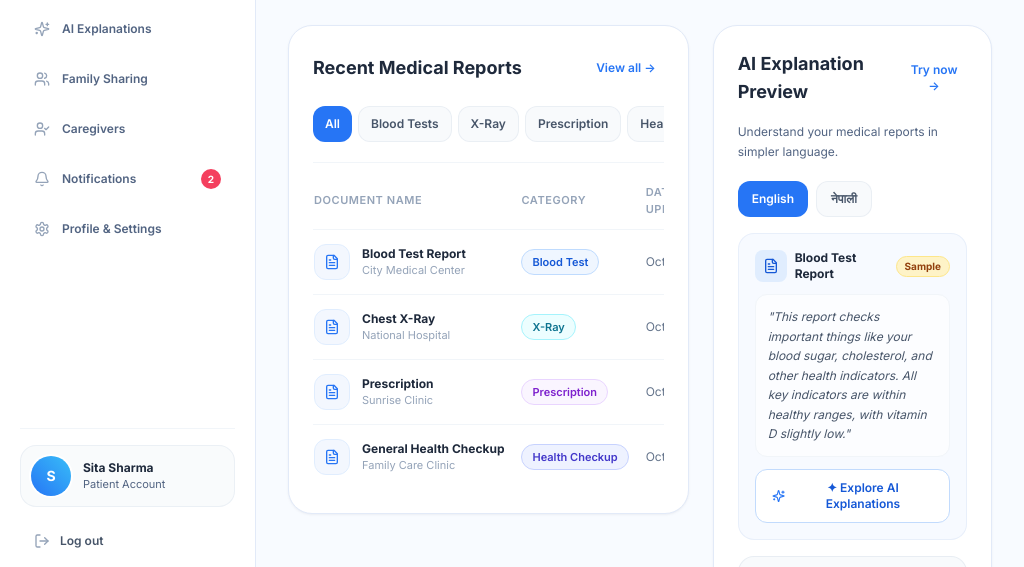
Test: MediVault AI — Phase 2B Patient Dashboard Frontend Suite › 9. toggles language in the AI Explanation Preview between English and Nepali
The width and height of the screenshot is (1024, 567).
(page scrolled)
Expected: the text "This report checks important things like your blood sugar" is shown, [768,309,932,441]
# Click Nepali toggle
Click the button "नेपाली" at coordinates (844, 199), box [816,181,872,217]
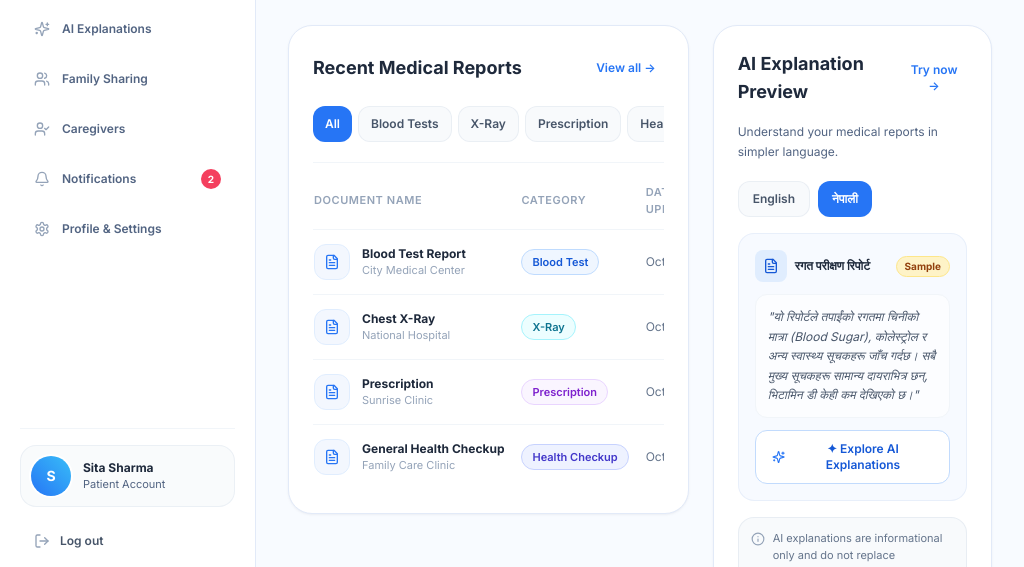
Expected: the text "यो रिपोर्टले तपाईंको रगतमा चिनीको मात्रा" is shown, [768,309,935,402]
